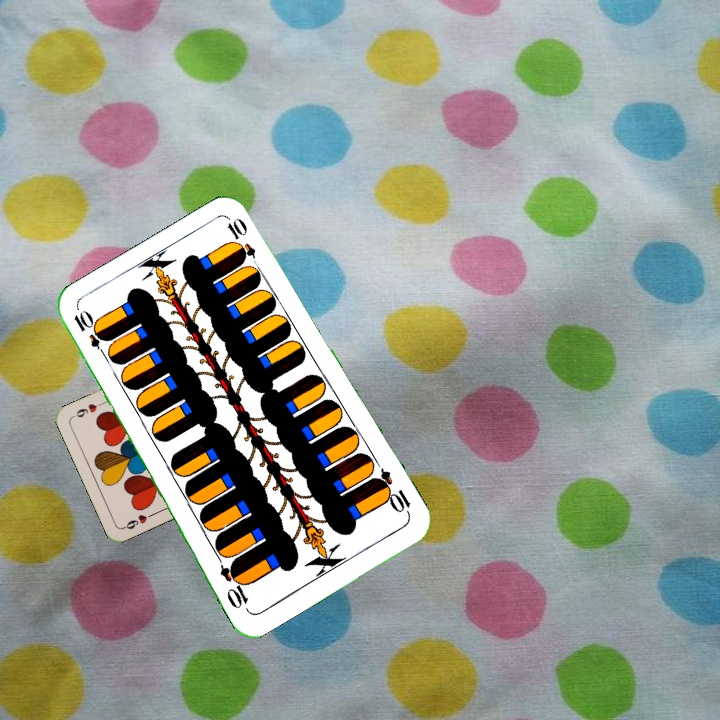E10: (369, 465, 414, 519), (69, 307, 112, 361)
H9: (119, 509, 158, 532)
